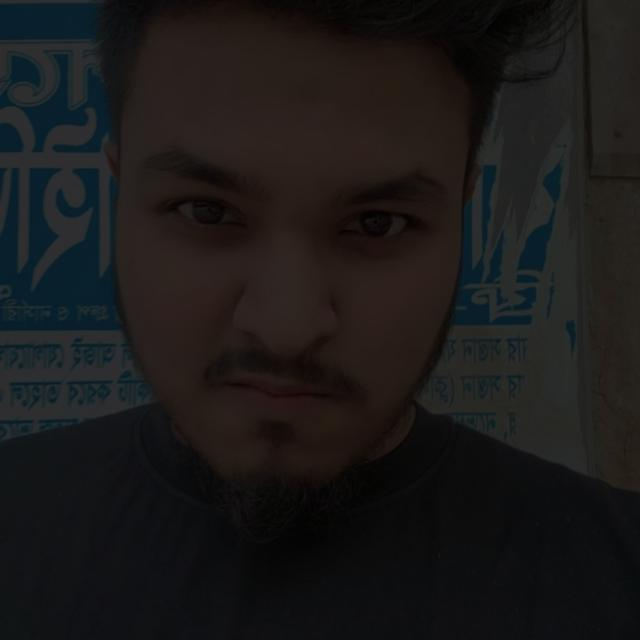angry: (66, 79, 533, 529)
